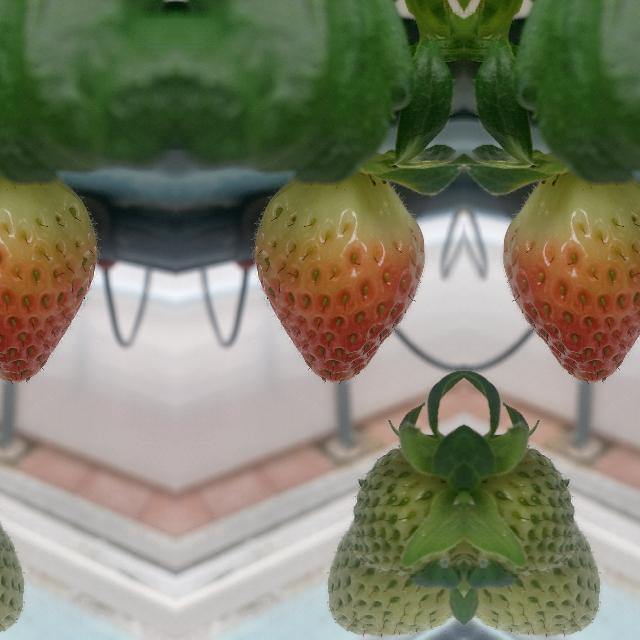Health_25: (323, 430, 463, 640), (463, 430, 603, 640)
Health_75: (253, 171, 423, 381), (503, 171, 640, 381), (0, 171, 97, 381)
